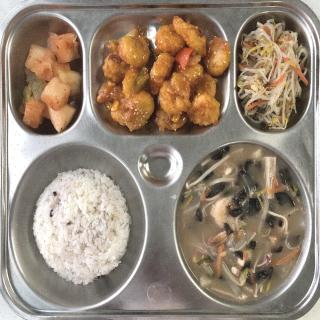Nasi: (30, 167, 135, 287)
